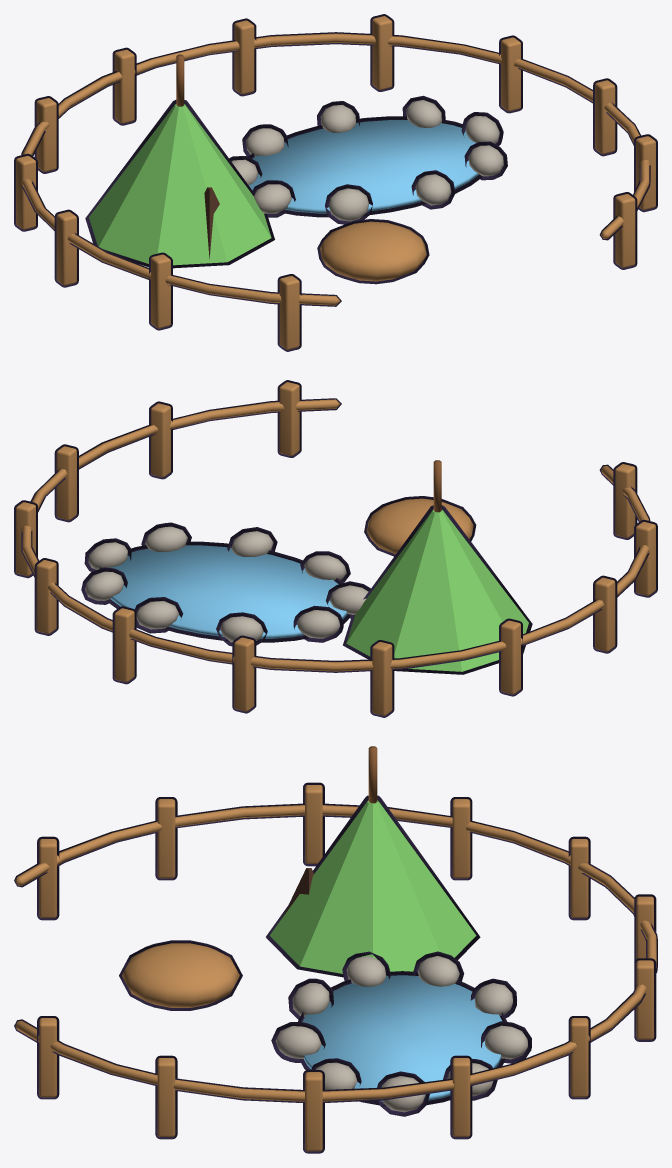
Rendered from sanctuary_1.glb.
The picture shows the model from 3 angles, top to bottom: view 1: azimuth 30°, elevation 25°; view 2: azimuth 150°, elevation 25°; view 3: azimuth 270°, elevation 25°; orthographic projection. The views are drawn at different scales.
Parts seen in each view (by area): view 1: tent, pond, rail, nest, box.009, box.003, box.002, box.004, box.007, box.008, box.010, box.001 (+14 smaller); view 2: tent, pond, rail, nest, box.004, box.005, box.003, box.010, box.007, box.002, box.006, box (+13 smaller); view 3: tent, rail, pond, nest, box.001, box.011, box.008, box.006, box.002, box.010, box, box.005 (+13 smaller).
Boxes of the visible parts, bbox=[...] form: tent: bbox=[85, 100, 274, 268]; pond: bbox=[248, 116, 482, 217]; rail: bbox=[21, 32, 650, 306]; nest: bbox=[317, 219, 429, 284]; box.009: bbox=[277, 274, 301, 351]; box.003: bbox=[232, 18, 256, 96]; box.002: bbox=[370, 14, 394, 91]; box.004: bbox=[112, 47, 136, 125]; box.007: bbox=[54, 209, 78, 287]; box.008: bbox=[149, 252, 172, 330]; box.010: bbox=[613, 192, 637, 269]; box.001: bbox=[499, 35, 522, 113]; tent: bbox=[343, 505, 532, 674]; pond: bbox=[100, 541, 350, 642]; rail: bbox=[21, 398, 650, 672]; nest: bbox=[364, 496, 476, 556]; box.004: bbox=[232, 635, 256, 713]; box.005: bbox=[370, 640, 394, 717]; box.003: bbox=[112, 606, 136, 684]; box.010: bbox=[277, 380, 301, 457]; box.007: bbox=[593, 575, 617, 653]; box.002: bbox=[34, 558, 58, 635]; box.006: bbox=[499, 618, 522, 696]; box: bbox=[54, 444, 78, 522]; tent: bbox=[266, 795, 480, 977]; rail: bbox=[14, 803, 657, 1103]; pond: bbox=[298, 971, 507, 1105]; nest: bbox=[119, 940, 242, 1010]; box.001: bbox=[450, 1055, 472, 1139]; box.011: bbox=[155, 1055, 177, 1139]; box.008: bbox=[155, 797, 177, 880]; box.006: bbox=[450, 797, 472, 880]; box.002: bbox=[568, 1016, 590, 1099]; box.010: bbox=[37, 1016, 59, 1099]; box: bbox=[303, 1070, 324, 1153]; box.005: bbox=[568, 836, 590, 920].
Bounding box in the file's own units: 4.75 × 1.46 × 4.36.
